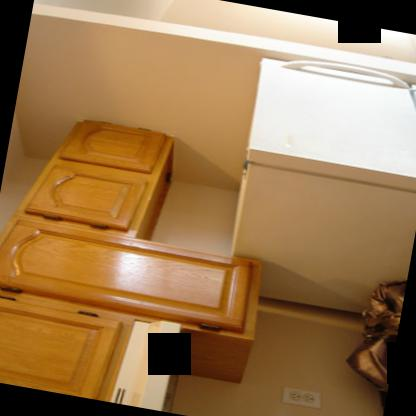handbag: (344, 277, 407, 395)
